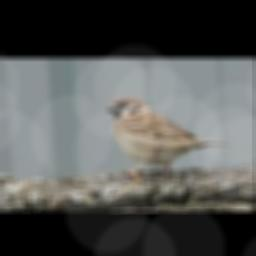Sparrow: (104, 98, 232, 180)
